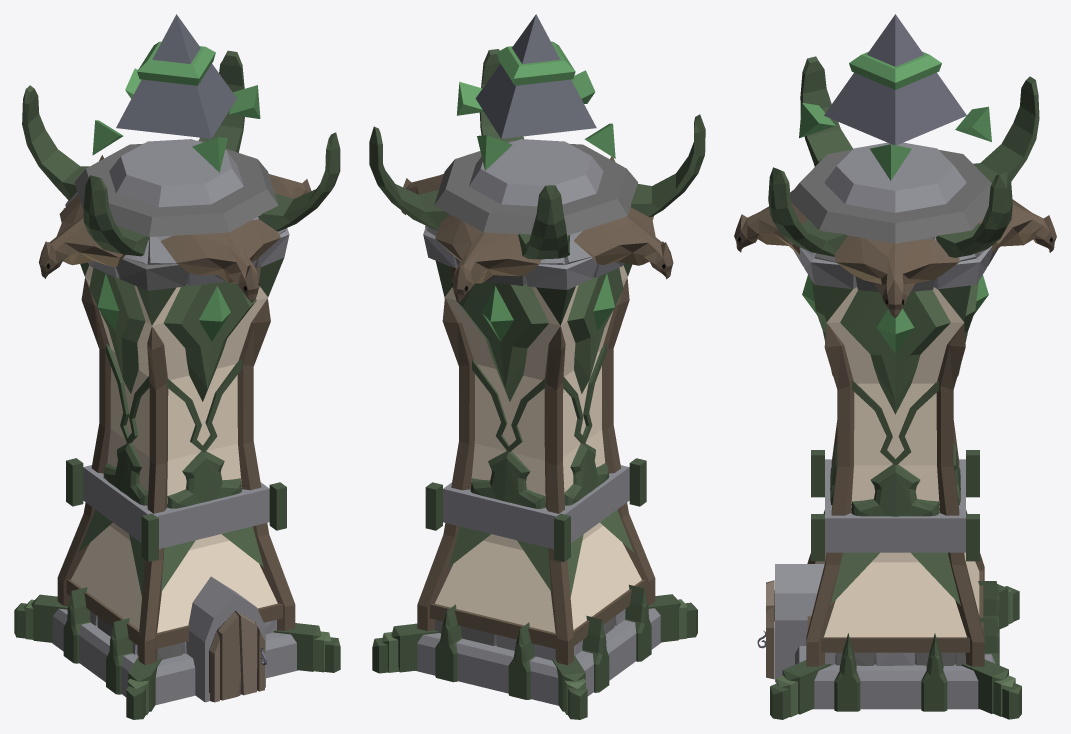
File: Poison Tower 4.obj
3 renders of one model, left to right at view 1: azimuth 30°, elevation 25°; view 2: azimuth 150°, elevation 25°; view 3: azimuth 270°, elevation 25°, orthographic. The views are drawn at different scales.
Parts seen in each view (by area): view 1: Poison_tower_LVL_4; view 2: Poison_tower_LVL_4; view 3: Poison_tower_LVL_4.
Boxes of the visible parts, x1,y1,x2,y2 form: Poison_tower_LVL_4: (14, 14, 340, 719); Poison_tower_LVL_4: (369, 14, 705, 719); Poison_tower_LVL_4: (734, 14, 1056, 719).
Size of the model in its own units: 6.84 by 15.29 by 6.84.
1 material, 1 textured.
